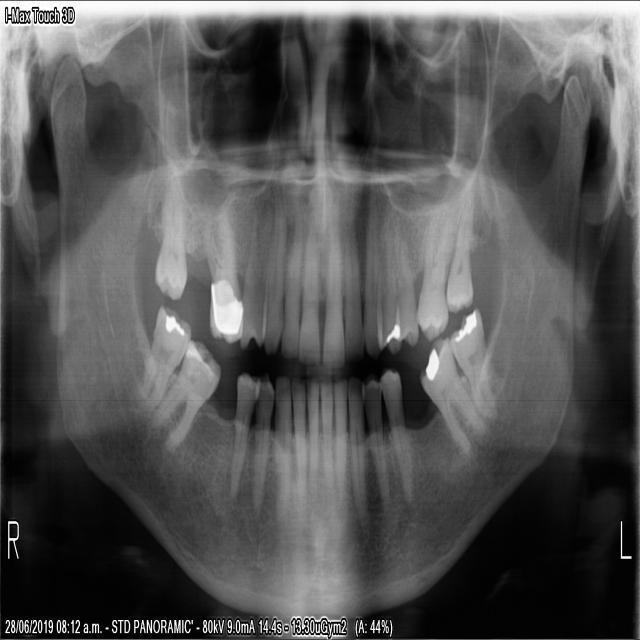LCD: (346, 374, 371, 527)
LCU: (362, 202, 381, 358)
LID: (333, 377, 351, 511), (319, 378, 335, 519)
LIU: (321, 218, 345, 369), (342, 219, 365, 362)
LMD: (417, 330, 487, 461), (451, 305, 510, 423)
LMU: (415, 205, 457, 344), (445, 186, 474, 311)
LPMD: (380, 364, 413, 505), (364, 376, 389, 514)
LPMU: (378, 203, 402, 361), (397, 201, 419, 349)
RCD: (272, 372, 291, 524)
RCU: (261, 209, 285, 358)
RID: (289, 376, 307, 516), (305, 377, 319, 496)
RIU: (296, 223, 320, 367), (278, 217, 301, 361)
RMD: (146, 330, 220, 460), (127, 299, 192, 422)
RMU: (199, 206, 238, 346), (151, 177, 185, 302)
RPMD: (227, 368, 261, 502), (250, 376, 272, 510)
RPMU: (237, 214, 268, 352)
